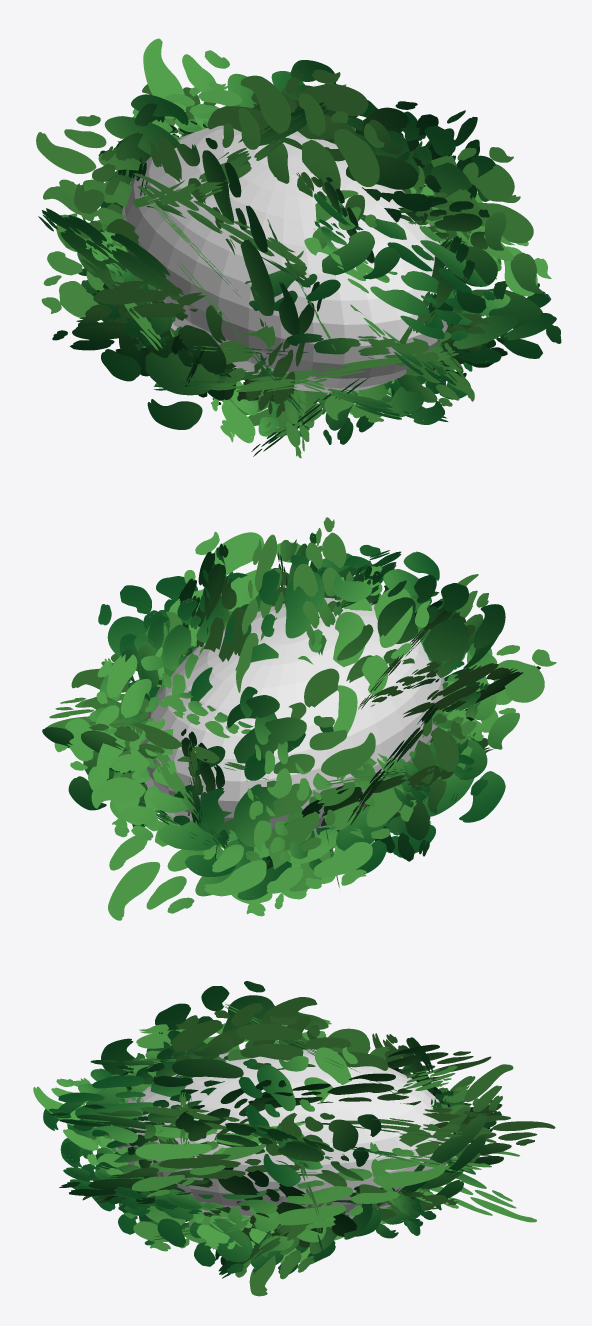
File: SM_LeafSet.fbx
3 views of the same model, one above another, from view 1: azimuth 30°, elevation 25°; view 2: azimuth 150°, elevation 25°; view 3: azimuth 270°, elevation 25° (orthographic). The views are drawn at different scales.
Visible parts, largest first — view 1: Sphere, Plane.053, Plane.062, Sphere|Plane|Dupli|9, Plane.059, Plane.075, Plane.022, Sphere|Plane|Dupli|31, Sphere|Plane|Dupli|67, Plane.036, Sphere|Plane|Dupli|5, Plane.021 (+55 smaller); view 2: Sphere, Plane.069, Plane.015, Plane.059, Plane.066, Sphere|Plane|Dupli|54, Sphere|Plane|Dupli|2, Sphere|Plane|Dupli|10, Plane.075, Sphere|Plane|Dupli|23, Sphere|Plane|Dupli|77, Sphere|Plane|Dupli|31 (+45 smaller); view 3: Sphere, Plane.010, Plane.058, Plane.056, Sphere|Plane|Dupli|44, Plane.001, Sphere|Plane|Dupli|58, Sphere|Plane|Dupli|5, Sphere|Plane|Dupli|52, Plane.068, Plane.072, Plane.044 (+47 smaller).
Boxes of the visible parts, left/top/right/bottom form: Sphere: left=122, top=125, right=447, bottom=392; Plane.053: left=222, top=75, right=384, bottom=218; Plane.062: left=36, top=94, right=184, bottom=245; Sphere|Plane|Dupli|9: left=207, top=72, right=439, bottom=222; Plane.059: left=148, top=136, right=297, bottom=335; Plane.075: left=78, top=300, right=271, bottom=429; Plane.022: left=245, top=191, right=399, bottom=311; Sphere|Plane|Dupli|31: left=412, top=147, right=510, bottom=315; Sphere|Plane|Dupli|67: left=442, top=195, right=556, bottom=362; Plane.036: left=52, top=284, right=206, bottom=358; Sphere|Plane|Dupli|5: left=129, top=40, right=304, bottom=185; Plane.021: left=106, top=221, right=232, bottom=399; Sphere: left=140, top=597, right=444, bottom=841; Plane.069: left=191, top=555, right=430, bottom=732; Plane.015: left=173, top=697, right=375, bottom=852; Plane.059: left=292, top=574, right=505, bottom=718; Plane.066: left=197, top=726, right=416, bottom=891; Sphere|Plane|Dupli|54: left=93, top=718, right=236, bottom=874; Sphere|Plane|Dupli|2: left=109, top=809, right=291, bottom=917; Sphere|Plane|Dupli|10: left=203, top=829, right=372, bottom=892; Plane.075: left=323, top=683, right=505, bottom=873; Sphere|Plane|Dupli|23: left=431, top=645, right=552, bottom=800; Sphere|Plane|Dupli|77: left=99, top=646, right=196, bottom=779; Sphere|Plane|Dupli|31: left=157, top=534, right=383, bottom=677; Sphere: left=113, top=1049, right=453, bottom=1225; Plane.010: left=147, top=1016, right=387, bottom=1094; Plane.058: left=240, top=1047, right=357, bottom=1186; Plane.056: left=49, top=1056, right=304, bottom=1168; Sphere|Plane|Dupli|44: left=199, top=1148, right=444, bottom=1228; Plane.001: left=116, top=1177, right=335, bottom=1273; Sphere|Plane|Dupli|58: left=102, top=983, right=390, bottom=1075; Sphere|Plane|Dupli|5: left=376, top=1064, right=509, bottom=1204; Sphere|Plane|Dupli|52: left=173, top=999, right=317, bottom=1075; Plane.068: left=59, top=1155, right=319, bottom=1203; Plane.072: left=182, top=1121, right=408, bottom=1211; Plane.044: left=95, top=1133, right=265, bottom=1197.
Bounding box in the file's own units: 452 × 355 × 666.
